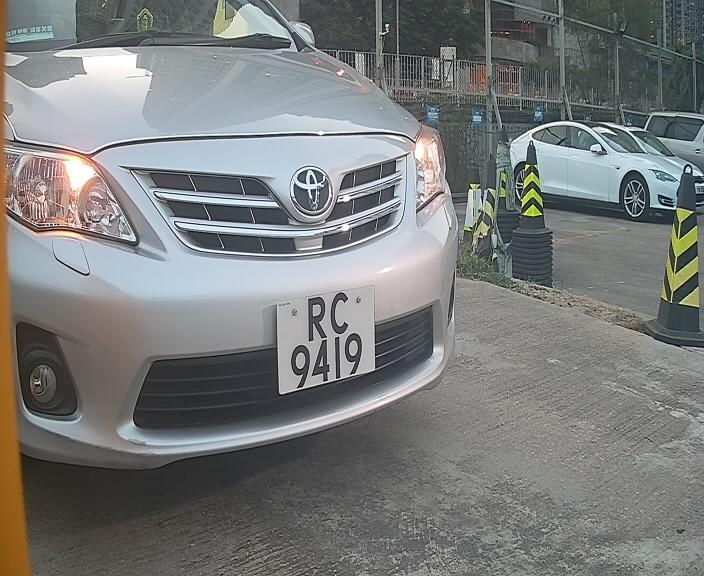License Plate: (268, 278, 381, 399)
